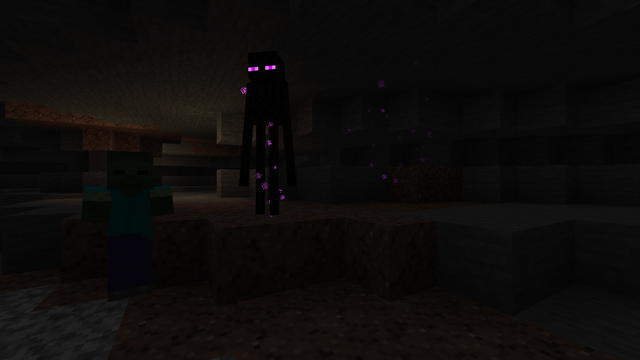endermens: (246, 41, 288, 216)
zombies: (98, 153, 156, 307)
